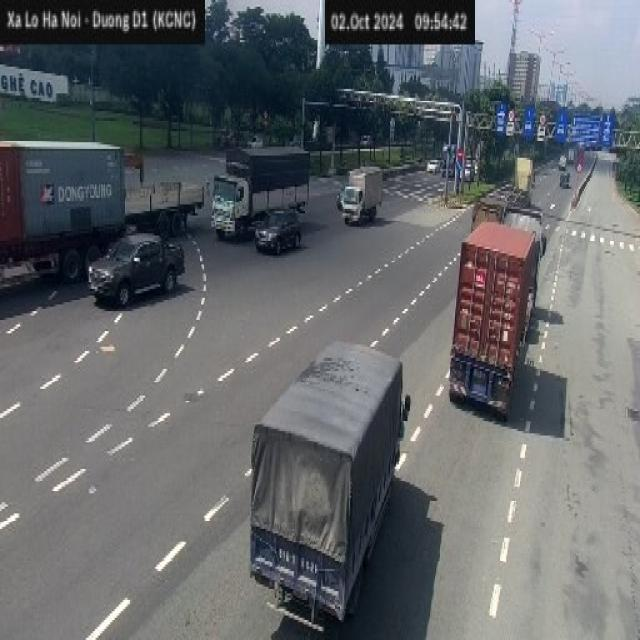car: (88, 231, 184, 307)
container-truck: (444, 190, 546, 423), (0, 138, 126, 289)
truck: (249, 338, 411, 624), (210, 144, 310, 240)
